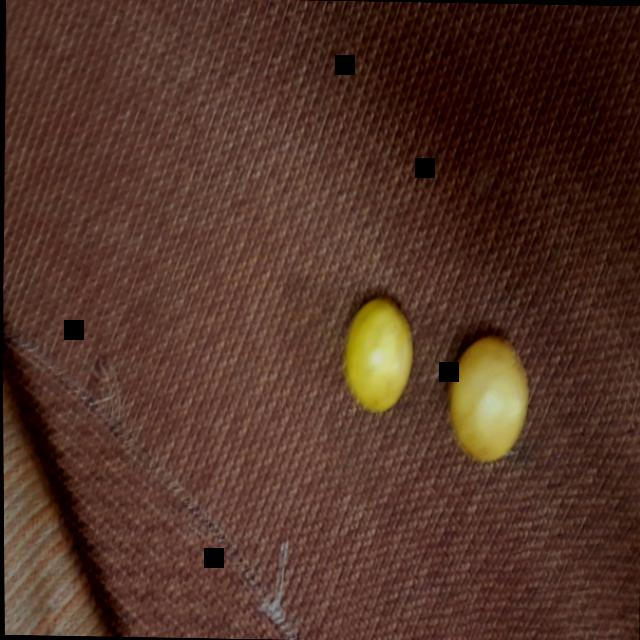lemon: (435, 324, 545, 474), (334, 287, 418, 416)
